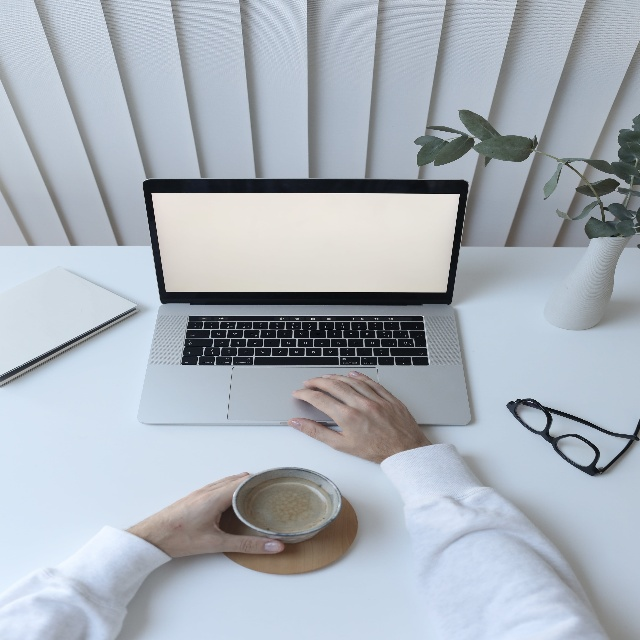Gafas: (506, 397, 640, 477)
Sin_guantes: (125, 471, 285, 559), (287, 370, 421, 464)
